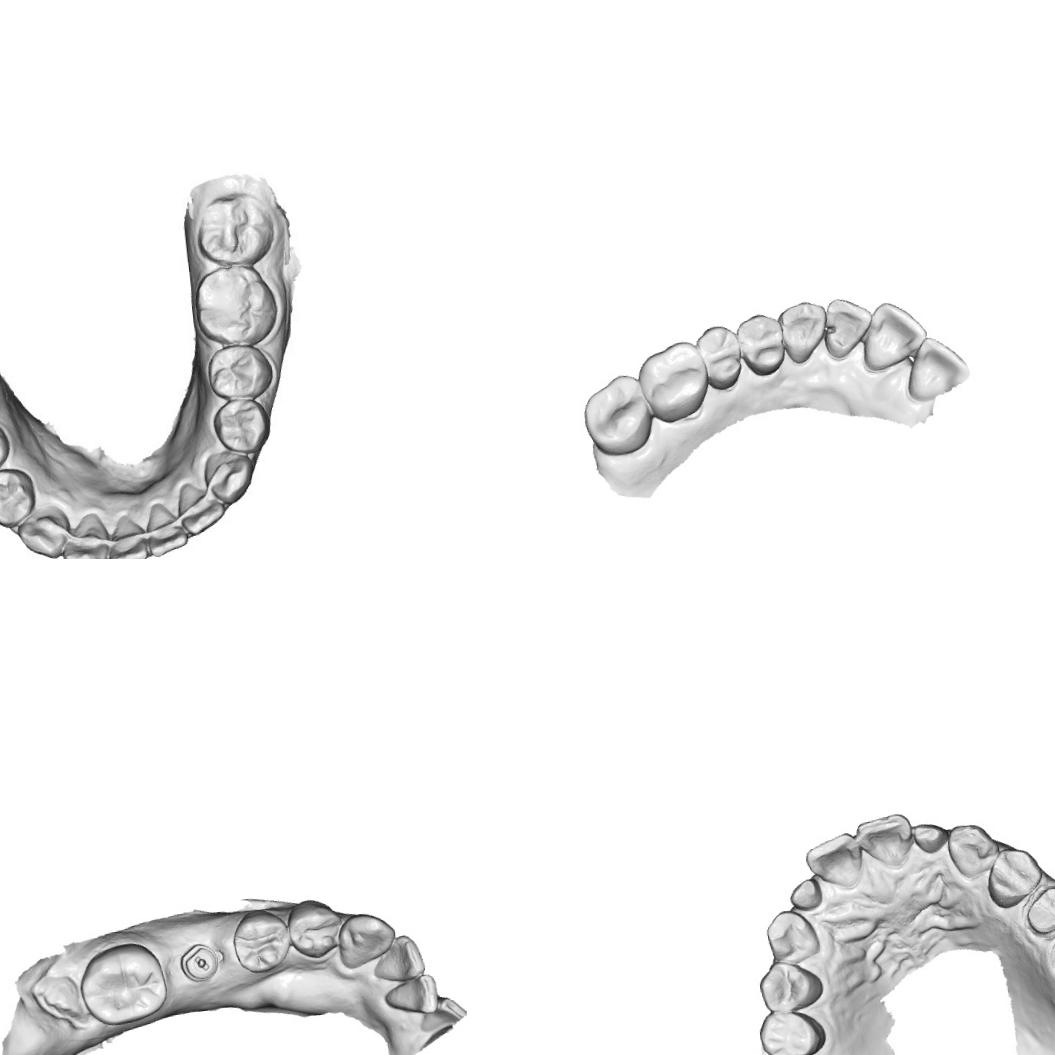canine: (334, 908, 401, 972), (774, 297, 833, 368), (764, 904, 824, 968), (201, 444, 260, 507), (945, 820, 1002, 880), (15, 503, 71, 559)
crown: (1022, 881, 1055, 940)
implant_minus: (176, 939, 226, 987)
incisor: (856, 296, 930, 374), (900, 331, 974, 406), (801, 832, 867, 893), (820, 294, 877, 360), (853, 808, 913, 868), (176, 478, 232, 540), (370, 931, 429, 984), (380, 971, 440, 1019), (142, 499, 189, 559), (100, 513, 155, 559), (57, 511, 108, 559), (417, 993, 469, 1036), (906, 820, 948, 858), (786, 877, 823, 912)
molar: (74, 938, 172, 1030), (192, 260, 282, 350), (633, 337, 714, 427), (580, 369, 659, 460), (194, 188, 276, 269)
premolar: (229, 906, 294, 976), (209, 395, 274, 462), (284, 894, 348, 962), (754, 956, 826, 1015), (205, 342, 274, 402), (984, 842, 1044, 908), (733, 310, 789, 380), (693, 320, 745, 392), (755, 1004, 828, 1055), (0, 467, 35, 532), (0, 421, 16, 483)
